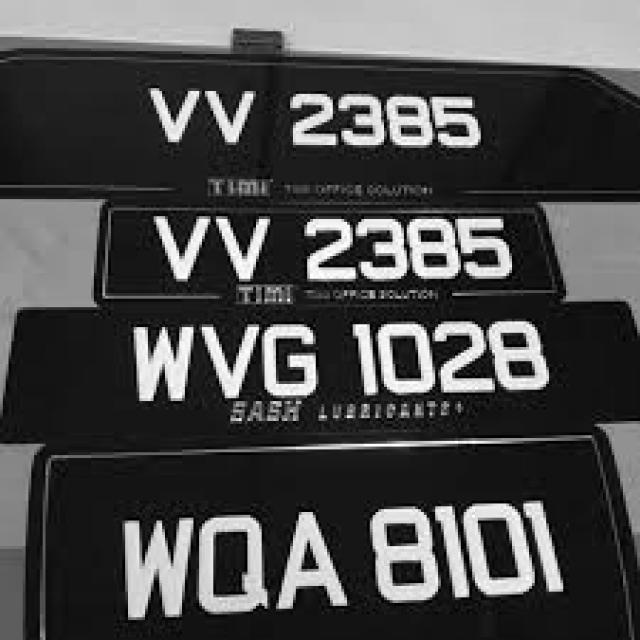car-plate: (25, 421, 639, 640), (1, 50, 640, 202), (0, 299, 640, 441), (93, 197, 570, 305)
